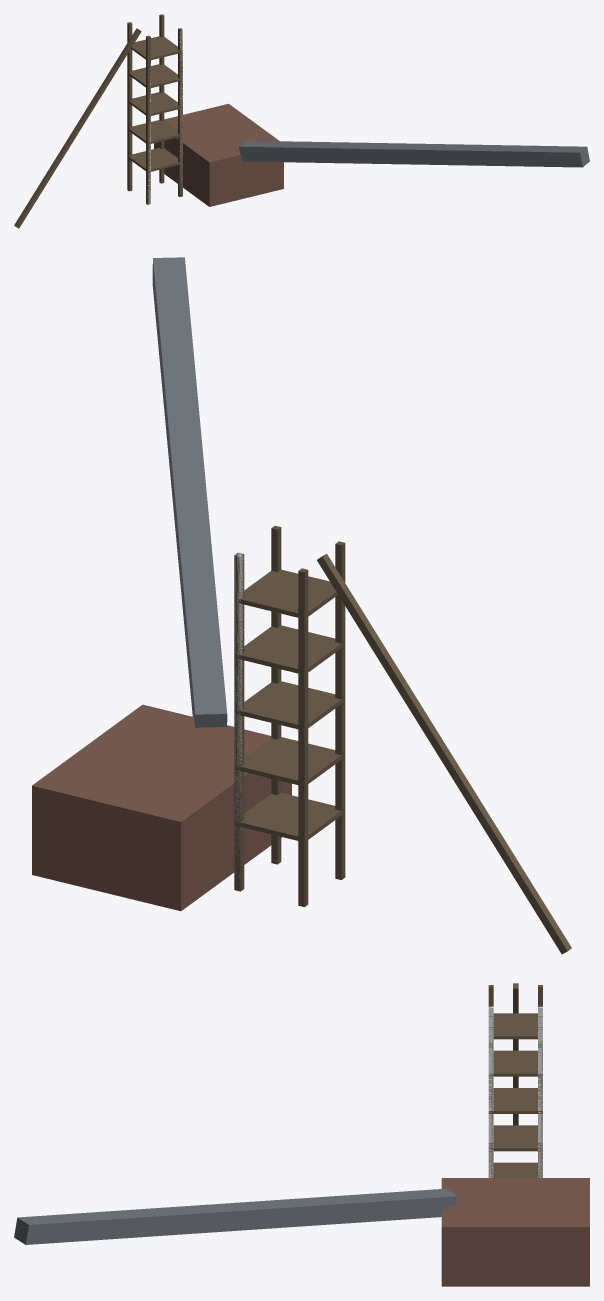
The model's file is theme-mine-1.glb.
3 renders of one model, top to bottom at view 1: azimuth 30°, elevation 25°; view 2: azimuth 150°, elevation 25°; view 3: azimuth 270°, elevation 25°, orthographic. The views are drawn at different scales.
Parts seen in each view (by area): view 1: 01_#7a5a50, 02_#6f757c_noshadow, 00_#6a5a48_noshadow, 03_#6a5a48; view 2: 01_#7a5a50, 00_#6a5a48_noshadow, 02_#6f757c_noshadow, 03_#6a5a48, solid.003; view 3: 01_#7a5a50, 02_#6f757c_noshadow, 00_#6a5a48_noshadow, solid.004, 03_#6a5a48, solid.003.
Part boxes in pixels (x1,y1,x2,y2): 01_#7a5a50: [154, 103, 283, 206]; 02_#6f757c_noshadow: [239, 140, 589, 167]; 00_#6a5a48_noshadow: [14, 28, 182, 228]; 03_#6a5a48: [127, 14, 182, 204]; 01_#7a5a50: [32, 704, 291, 911]; 00_#6a5a48_noshadow: [234, 554, 571, 954]; 02_#6f757c_noshadow: [152, 257, 227, 727]; 03_#6a5a48: [234, 525, 345, 907]; solid.003: [234, 553, 243, 882]; 01_#7a5a50: [441, 1178, 589, 1286]; 02_#6f757c_noshadow: [14, 1188, 457, 1244]; 00_#6a5a48_noshadow: [488, 983, 542, 1177]; solid.004: [488, 1006, 493, 1177]; 03_#6a5a48: [488, 985, 542, 1177]; solid.003: [538, 1007, 542, 1177].
Size of the model in its own units: 73.5 by 30.43 by 69.92.
